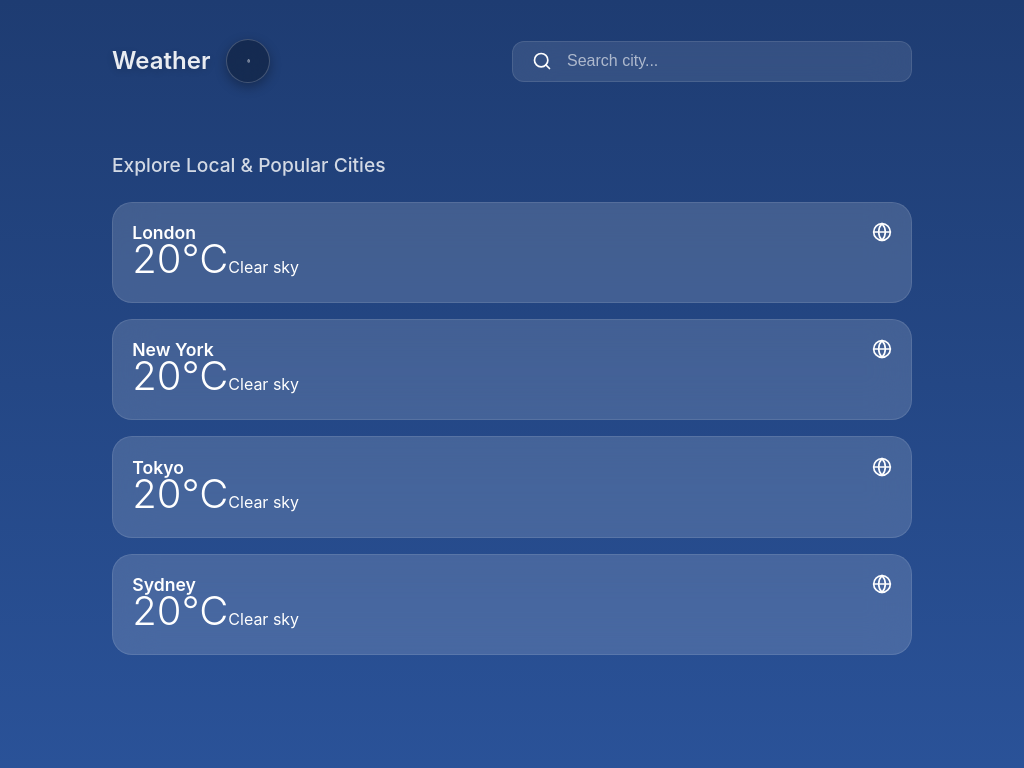
App › shows a dismissible error when the forecast request fails
Click the text "London": x=164, y=232 [132,222,196,243]
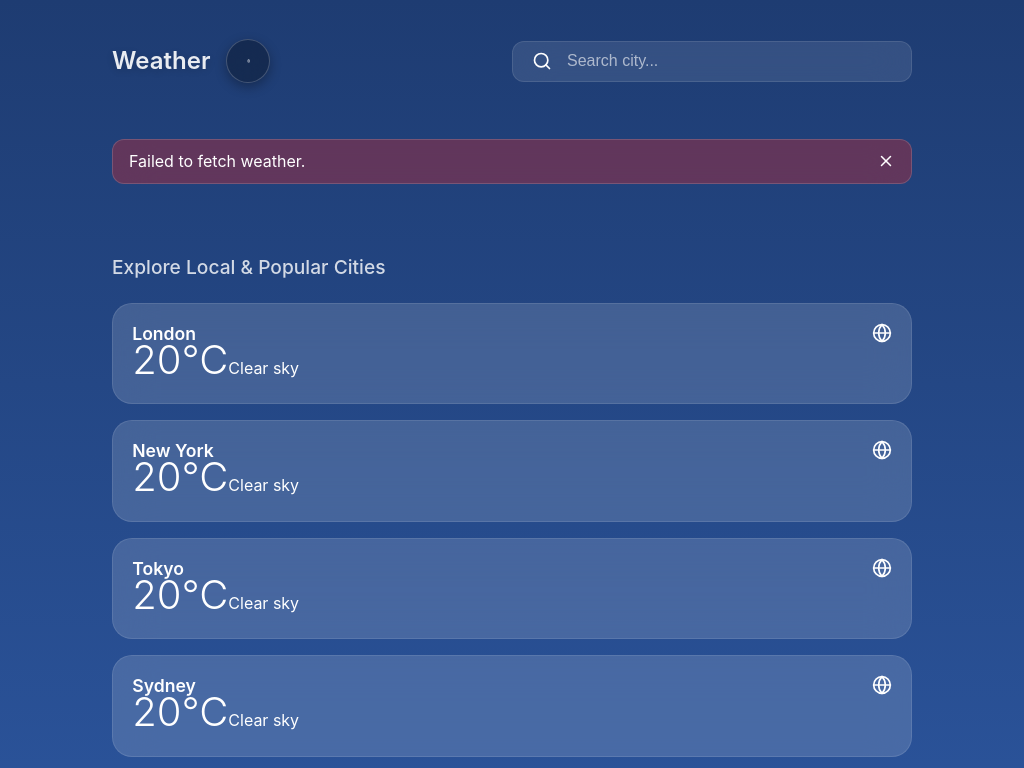
Now the message reads "Failed to fetch weather.", box [129,150,306,170]
Click the button named "Dismiss error": x=886, y=161 [877,152,895,170]
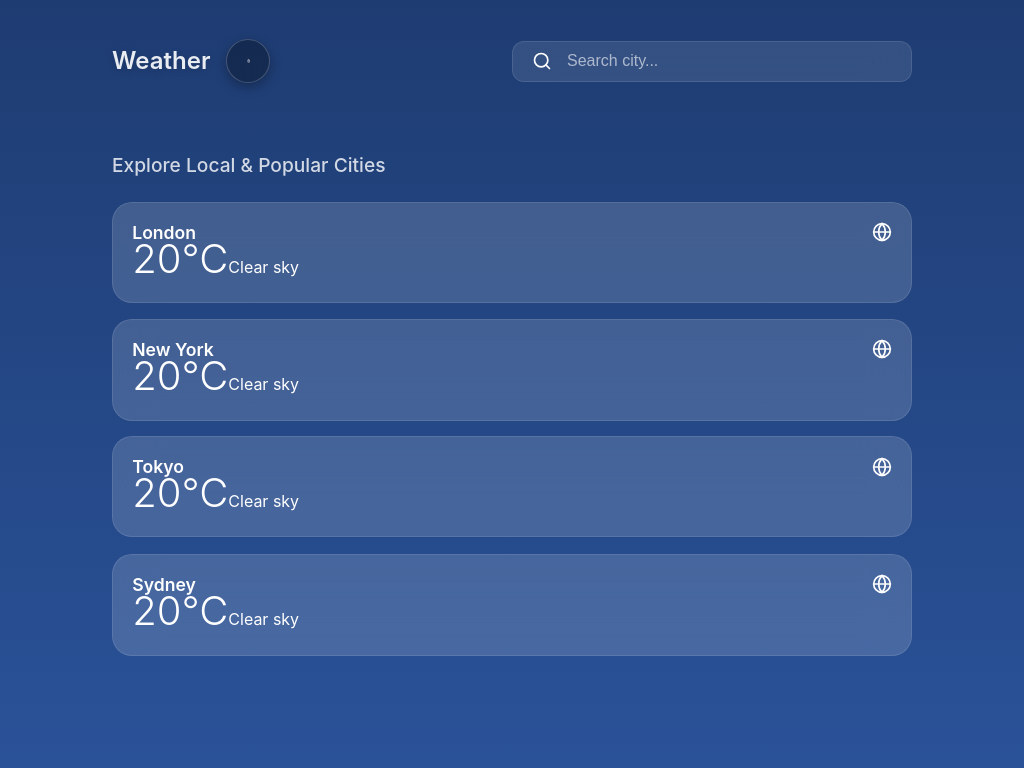
Now the message "Failed to fetch weather." is gone
